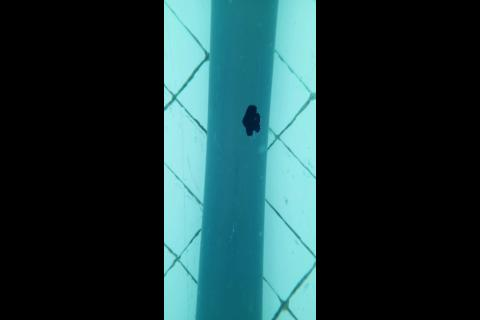kebocoran: (241, 102, 262, 137)
